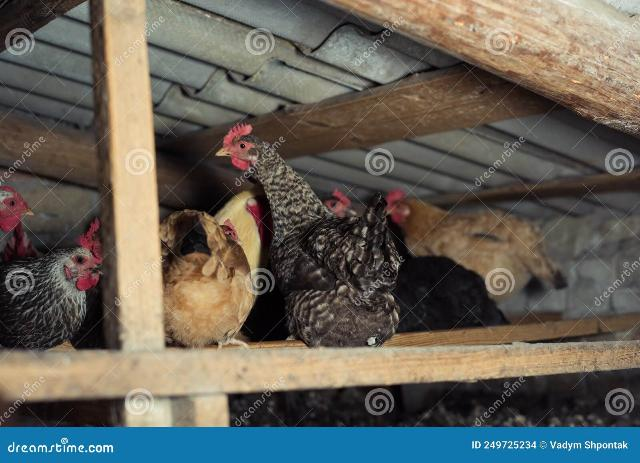Chicken: (216, 121, 402, 351), (386, 189, 568, 301), (159, 189, 265, 347), (0, 217, 104, 353), (0, 182, 42, 256)
